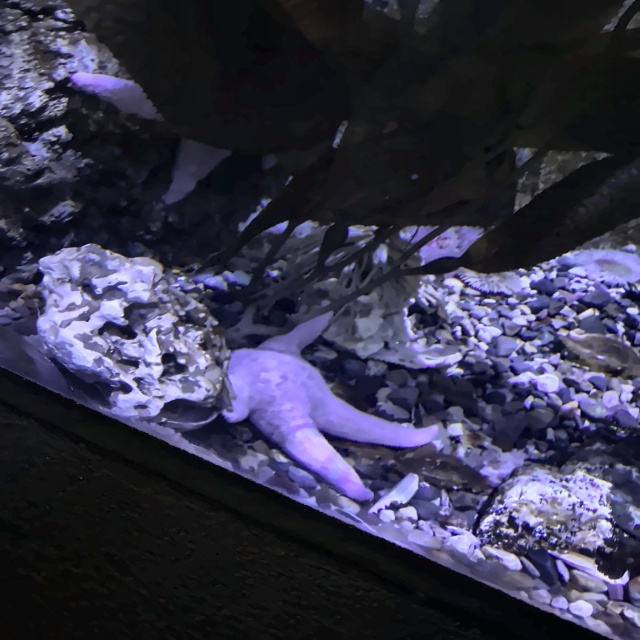starfish: (222, 309, 442, 503)
